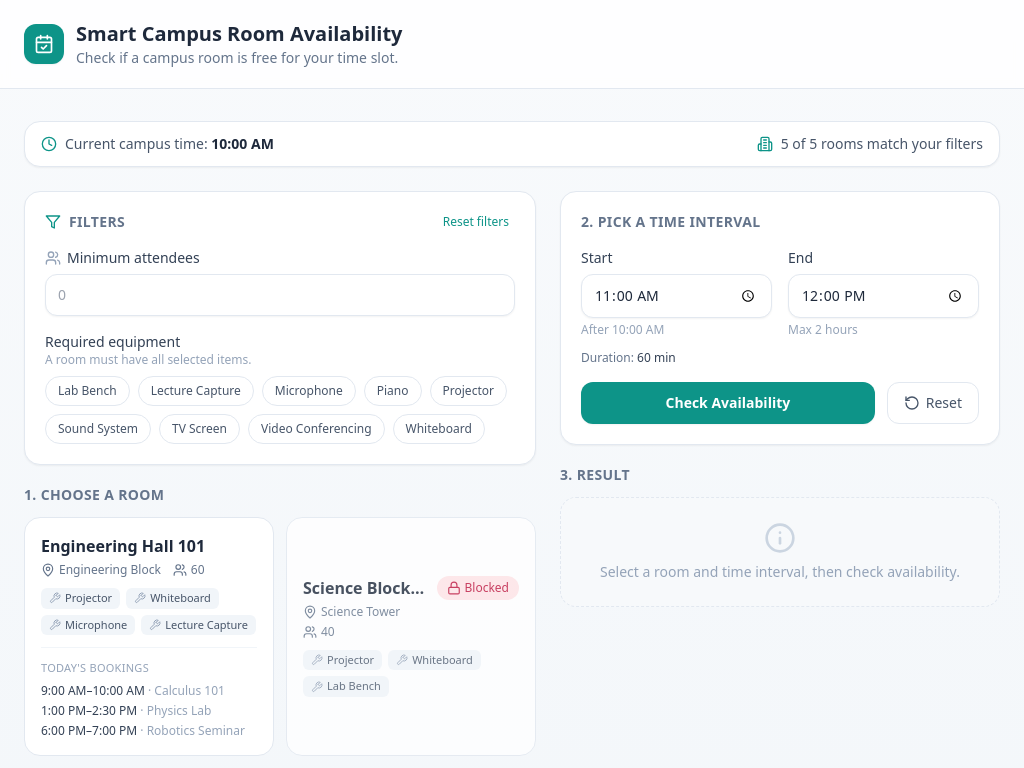
it: Integration: select room → check availability → result › Integration: select a free room and valid future interval → Available result
The width and height of the screenshot is (1024, 768).
Click the text "Engineering Hall 101": (123, 546) [41,534,205,558]
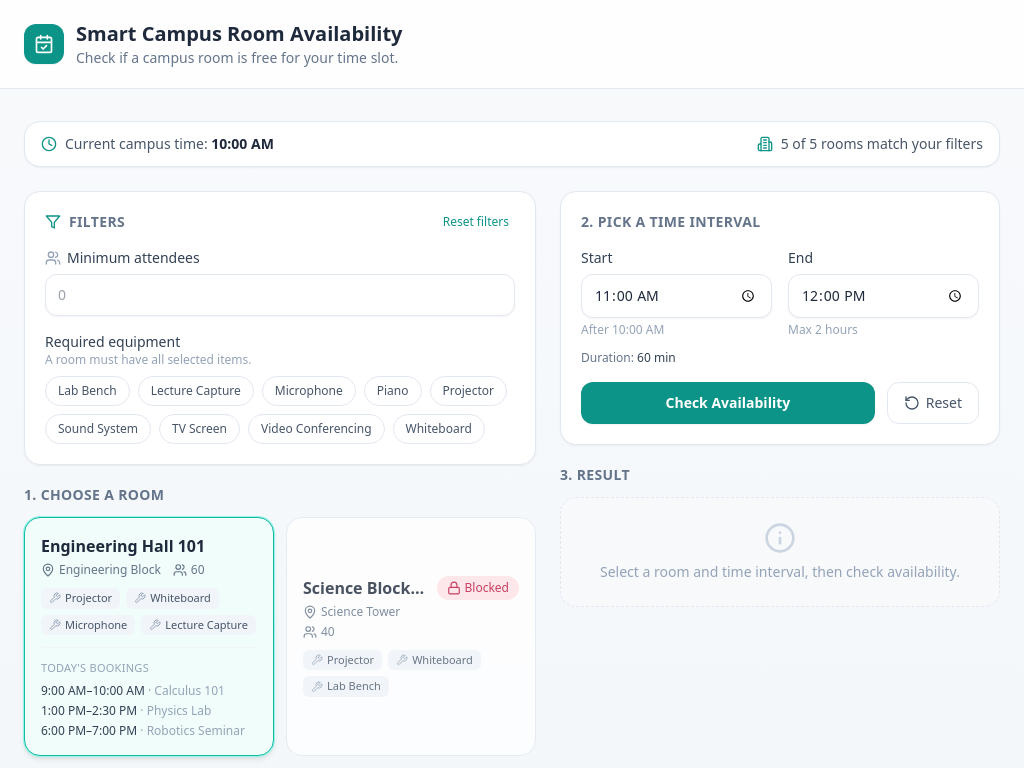
Click the button "Check Availability": (728, 403) [581,382,875,424]
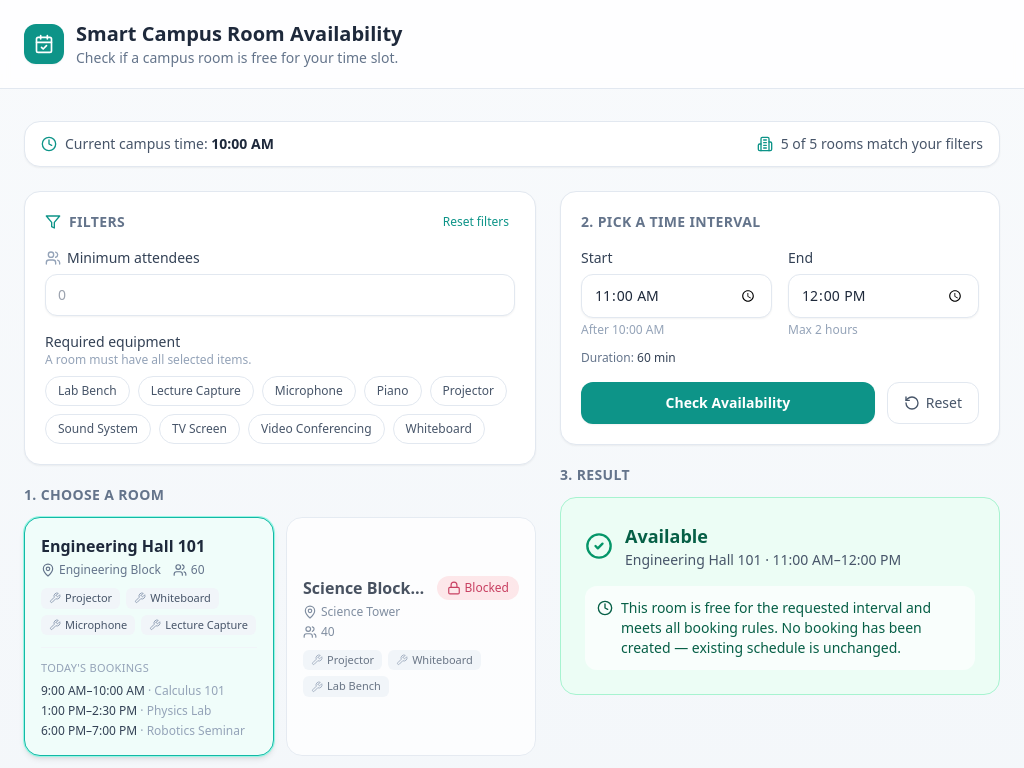
expect the text "Available" is shown: met, box [625,524,708,548]
